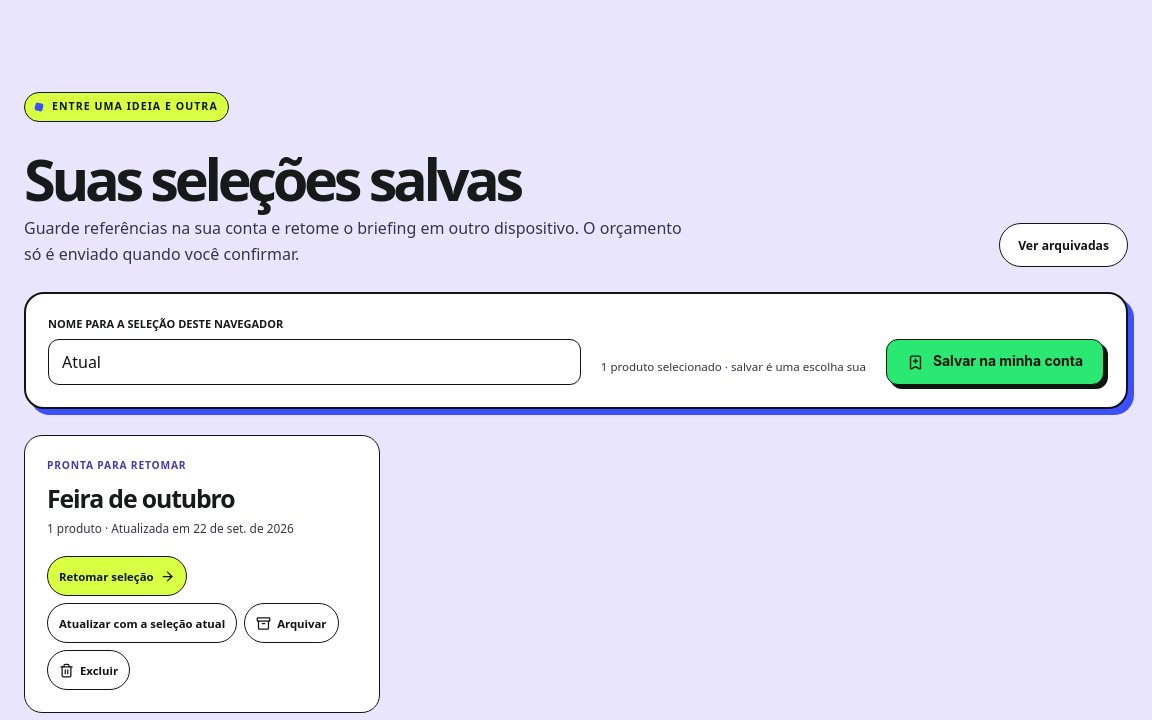
seleções salvas na Área do Cliente › não oferece sobrescrever quando outra sessão arquivou a seleção
The image size is (1152, 720).
Step 1. Click the button "Atualizar com a seleção atual" → (142, 623), box [47, 603, 237, 643]
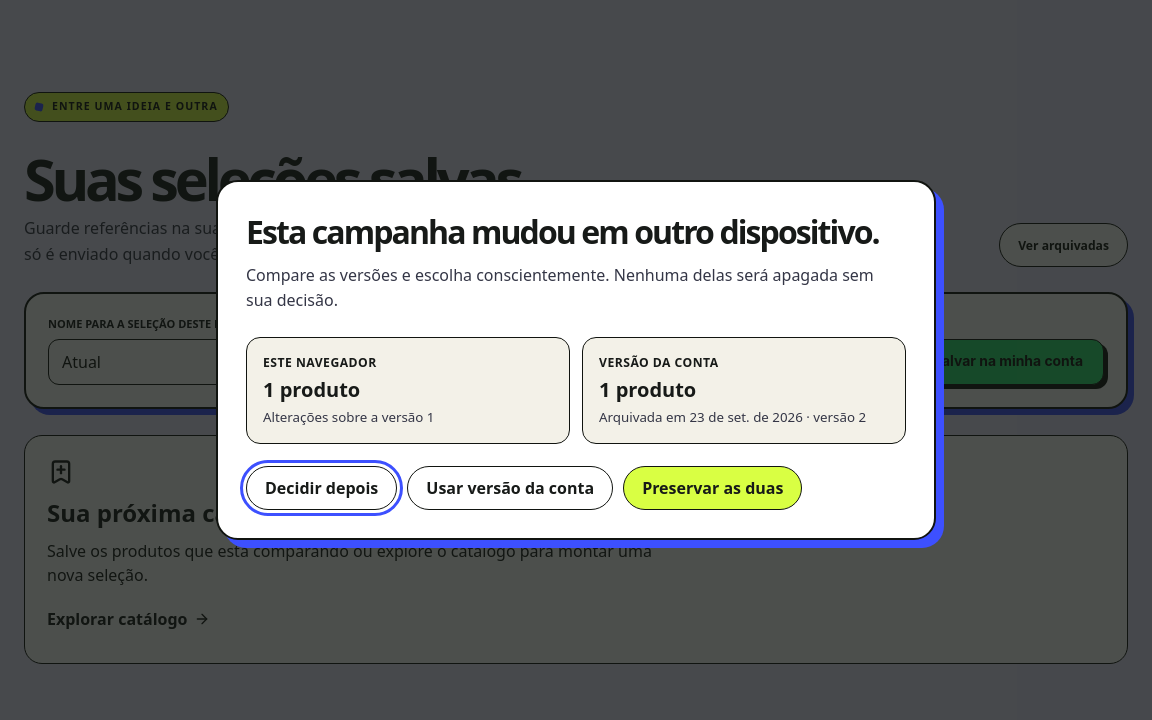
Now the dialog "Esta campanha mudou em outro dispositivo." is shown, box [216, 180, 936, 540]
Now the element named "Versão salva na conta" shows "Arquivada em", box [582, 337, 906, 444]
Now the button "Preservar as duas" is enabled, box [623, 466, 802, 510]
